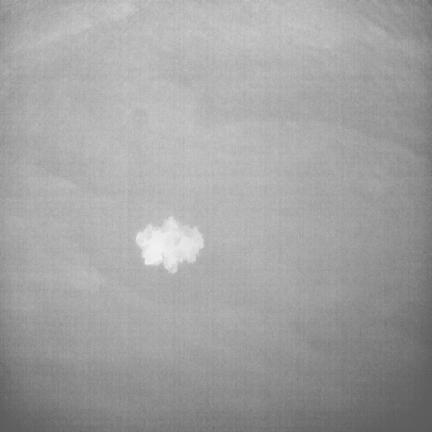flukeprints: (136, 217, 203, 273)
